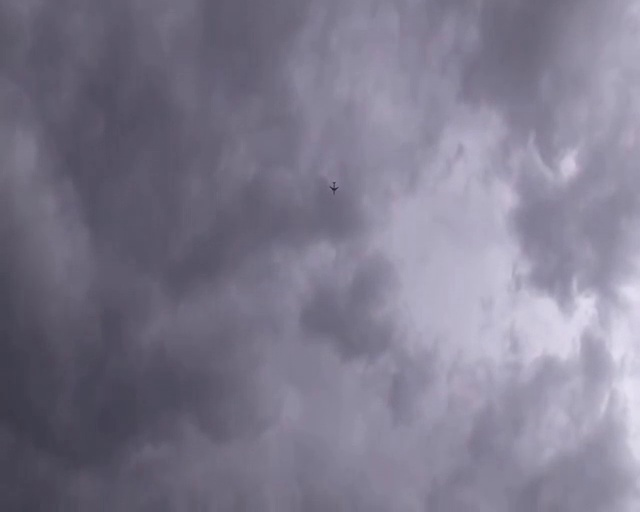AIRPLANE: (328, 179, 339, 193)
